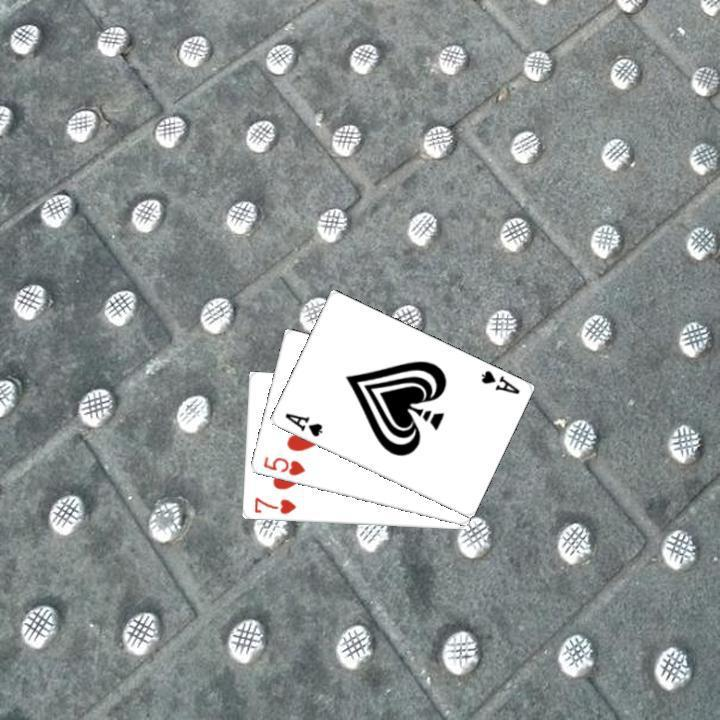5: (259, 452, 307, 478)
7: (249, 493, 298, 516)
A: (476, 366, 522, 396), (280, 409, 324, 439)
